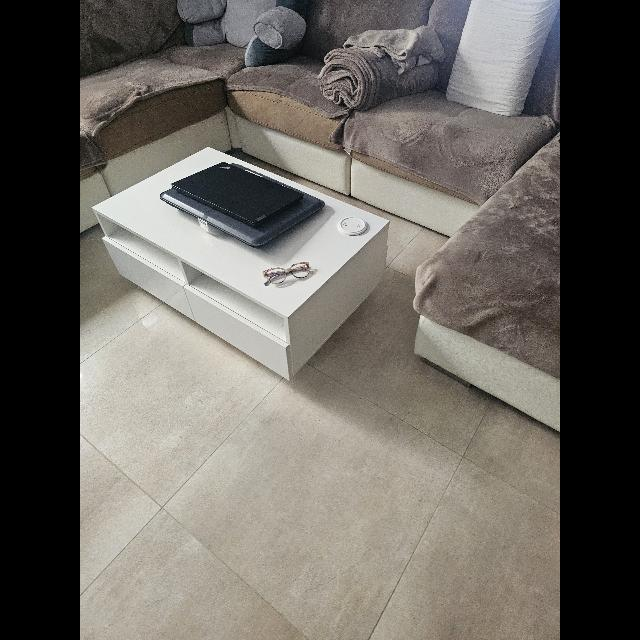glasses: (262, 262, 314, 286)
